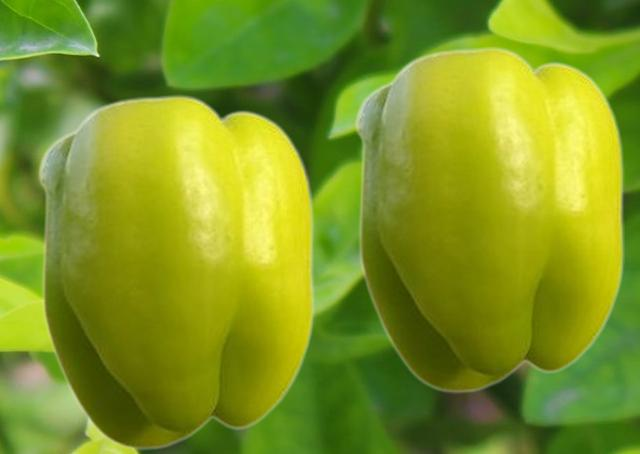bell_pepper: (37, 93, 313, 449), (354, 45, 623, 392)
